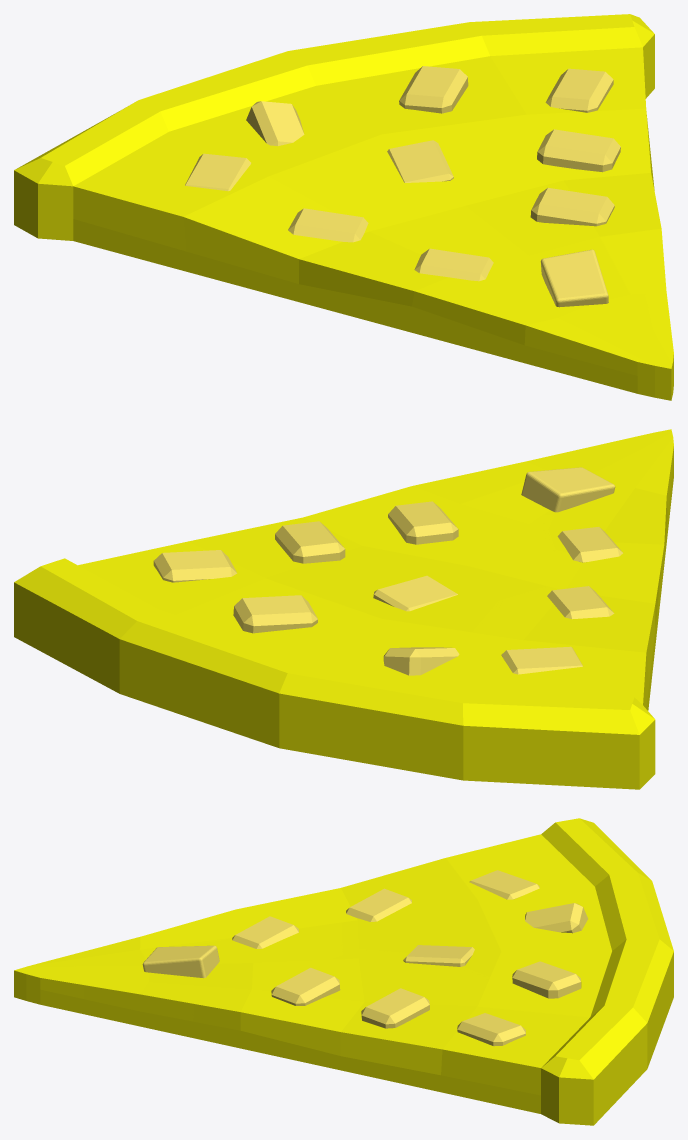
The model's file is YellowSlice.fbx.
3 renders of one model, top to bottom at view 1: azimuth 30°, elevation 25°; view 2: azimuth 150°, elevation 25°; view 3: azimuth 270°, elevation 25°, orthographic. The views are drawn at different scales.
Parts seen in each view (by area): view 1: Pizza_Slice; view 2: Pizza_Slice; view 3: Pizza_Slice.
Part boxes in pixels (x1,y1,x2,y2): Pizza_Slice: (14, 14, 673, 400); Pizza_Slice: (14, 429, 673, 789); Pizza_Slice: (14, 818, 673, 1125).
Size of the model in its own units: 107 by 12.22 by 116.
